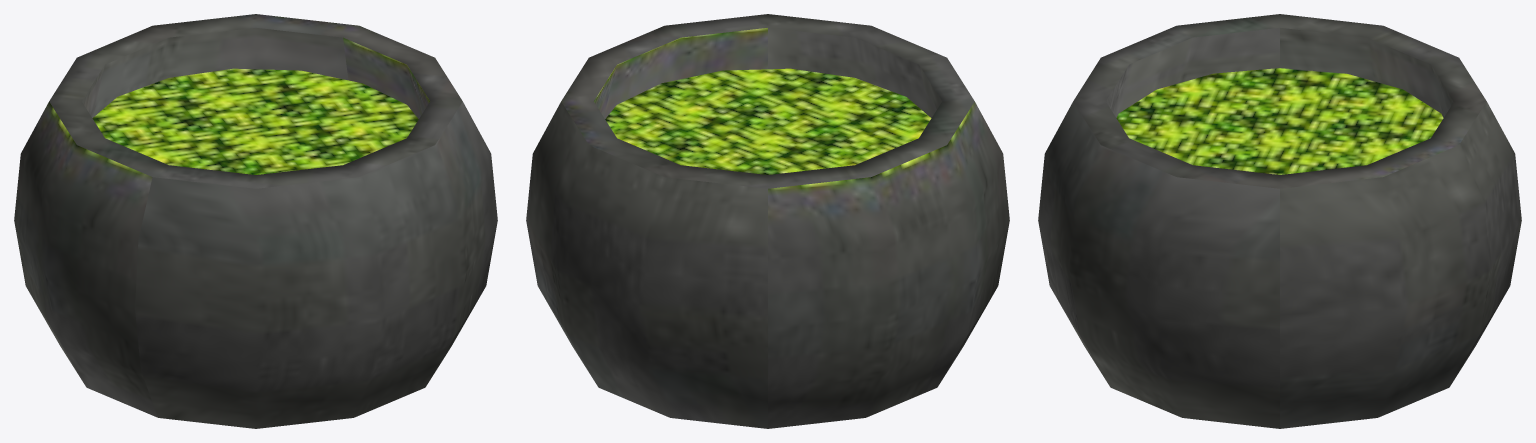
File: chaudron.glb
3 renders of one model, left to right at view 1: azimuth 30°, elevation 25°; view 2: azimuth 150°, elevation 25°; view 3: azimuth 270°, elevation 25°, orthographic.
Parts seen in each view (by area): view 1: Cylinder.001; view 2: Cylinder.001; view 3: Cylinder.001.
Boxes of the visible parts, <box> form: Cylinder.001: <box>14,14,497,428</box>; Cylinder.001: <box>526,14,1009,428</box>; Cylinder.001: <box>1038,14,1521,428</box>.
Size of the model in its own units: 2.42 by 1.53 by 2.42.
Materials: 1 (1 with a texture image).
